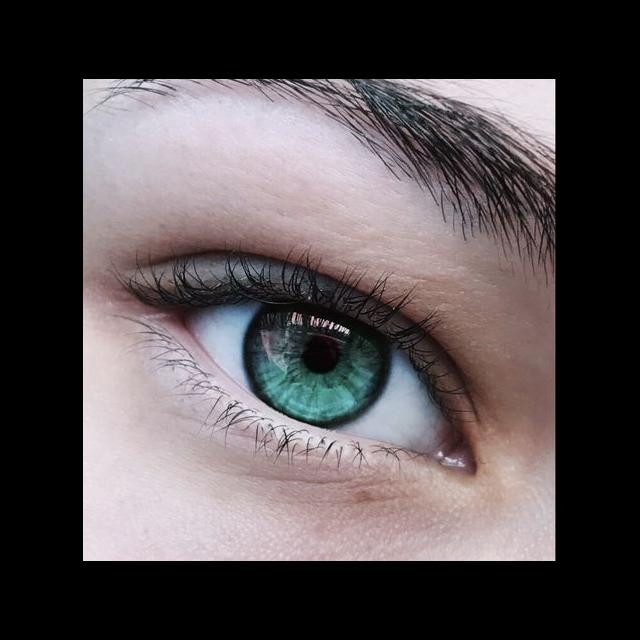eye: (172, 282, 453, 463)
iris: (243, 295, 397, 431)
